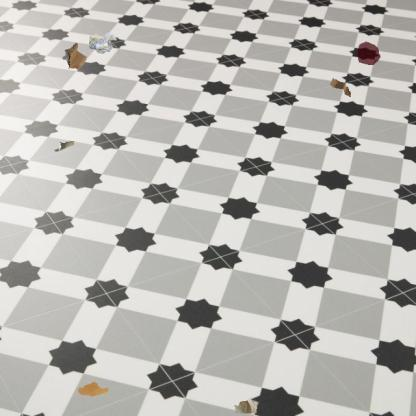dirty: (60, 41, 88, 71), (87, 30, 118, 56), (232, 394, 260, 415), (328, 76, 352, 100), (53, 139, 76, 154)
liquid: (356, 40, 382, 66), (76, 380, 108, 398)
